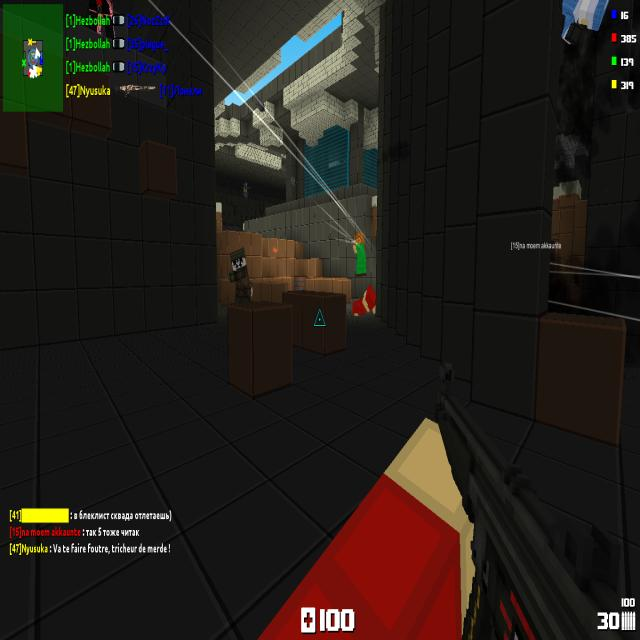enemy: (230, 246, 250, 305), (352, 231, 367, 277), (243, 181, 248, 199)
